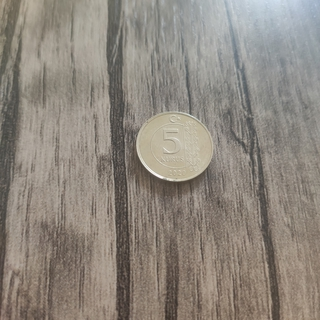5KURUS: (134, 108, 215, 182)
